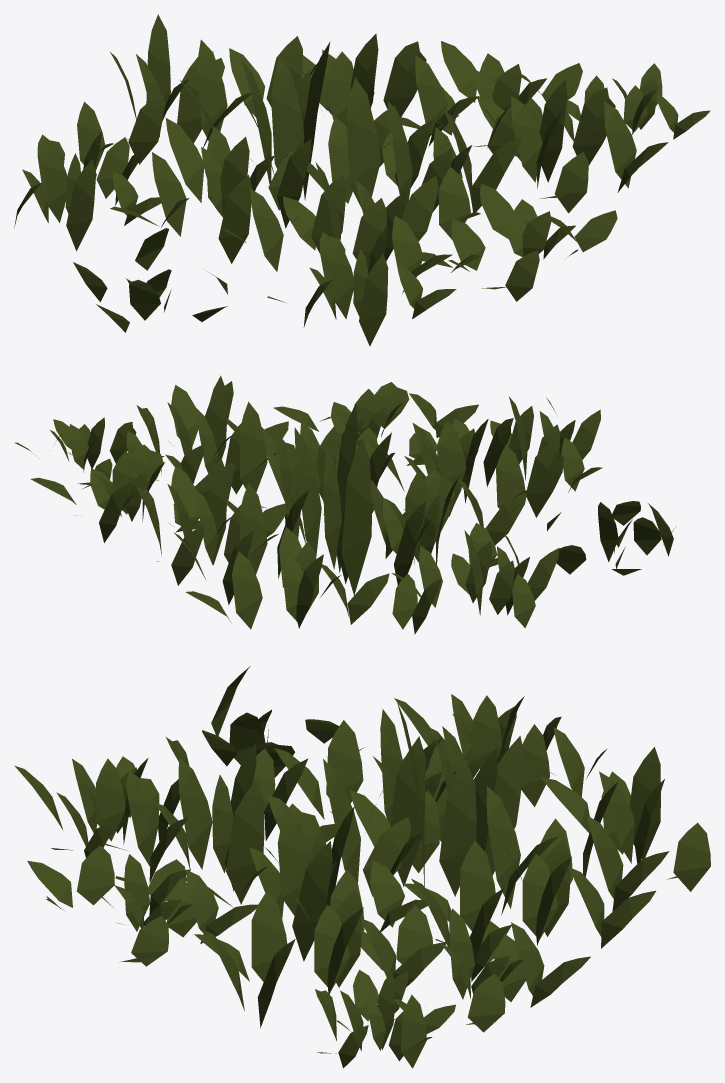
File: grass-thick-c.gltf
3 views of the same model, one above another, from view 1: azimuth 30°, elevation 25°; view 2: azimuth 150°, elevation 25°; view 3: azimuth 270°, elevation 25° (orthographic). The views are drawn at different scales.
Visible parts, largest first — view 1: grass-thick-c; view 2: grass-thick-c; view 3: grass-thick-c.
Boxes of the visible parts, bbox=[...] form: grass-thick-c: bbox=[14, 14, 710, 346]; grass-thick-c: bbox=[14, 375, 675, 634]; grass-thick-c: bbox=[14, 666, 710, 1068].
Size of the model in its own units: 0.0234 by 0.0061 by 0.0188.
